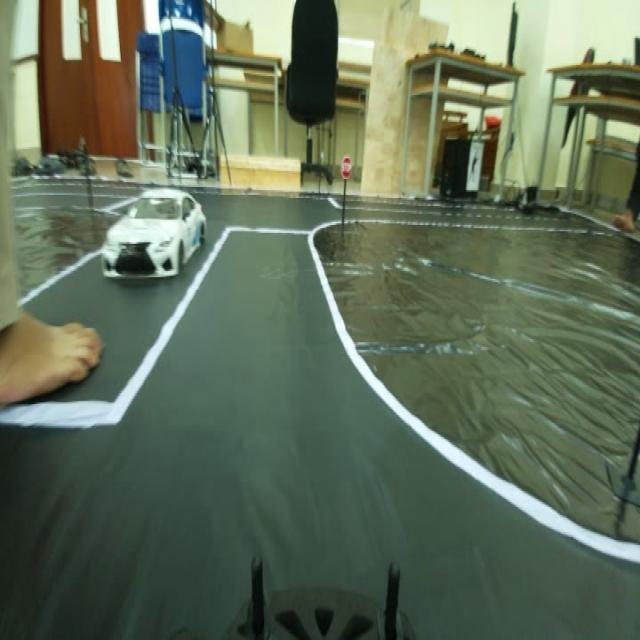car: (105, 181, 206, 293)
stop: (338, 142, 360, 186)
